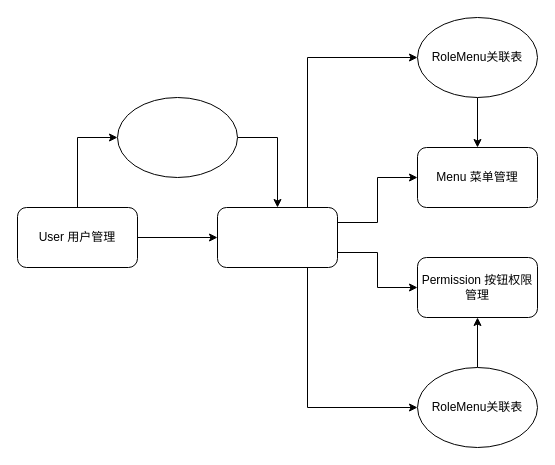
Some shapes in this 555 by 465 pixel diagram are drawn without their labels. The centre of each missing label's shape, as x and y in pixels:
Role 角色管理: point 277,237
UserRole关联表: point 177,137
